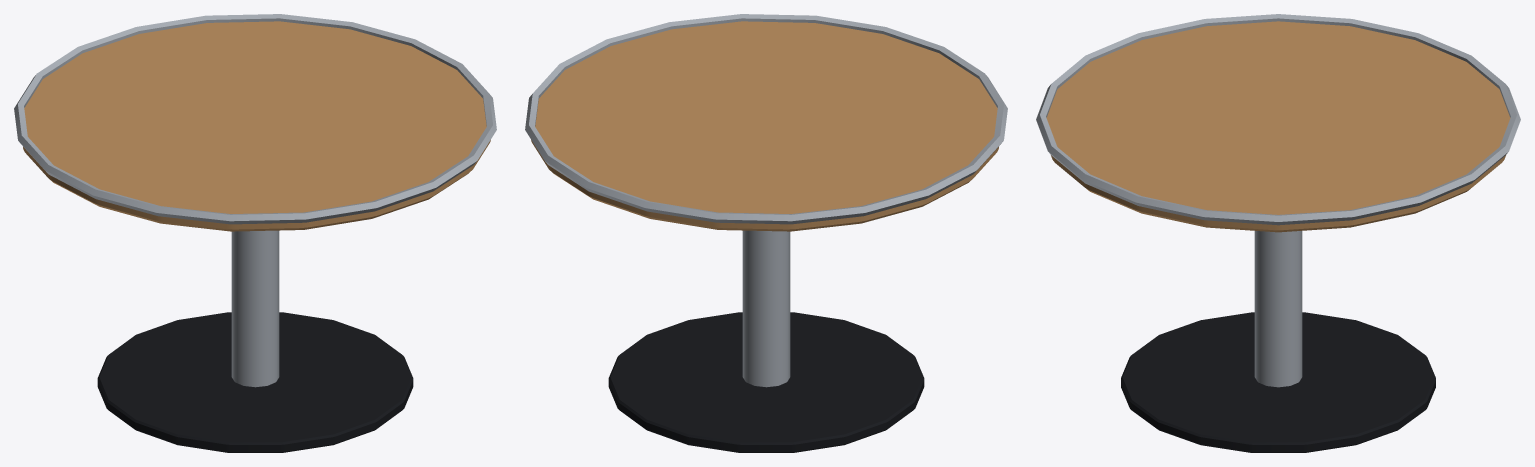
The model's file is table_round_mess_table.glb.
3 views of the same model, side by side, from view 1: azimuth 30°, elevation 25°; view 2: azimuth 150°, elevation 25°; view 3: azimuth 270°, elevation 25° (orthographic).
Parts seen in each view (by area): view 1: table_round_mess_table; view 2: table_round_mess_table; view 3: table_round_mess_table.
Boxes of the visible parts, bbox=[...] form: table_round_mess_table: bbox=[14, 14, 496, 452]; table_round_mess_table: bbox=[525, 14, 1007, 452]; table_round_mess_table: bbox=[1036, 14, 1520, 452].
Bounding box in the file's own units: 1.23 × 0.7633 × 1.23.
